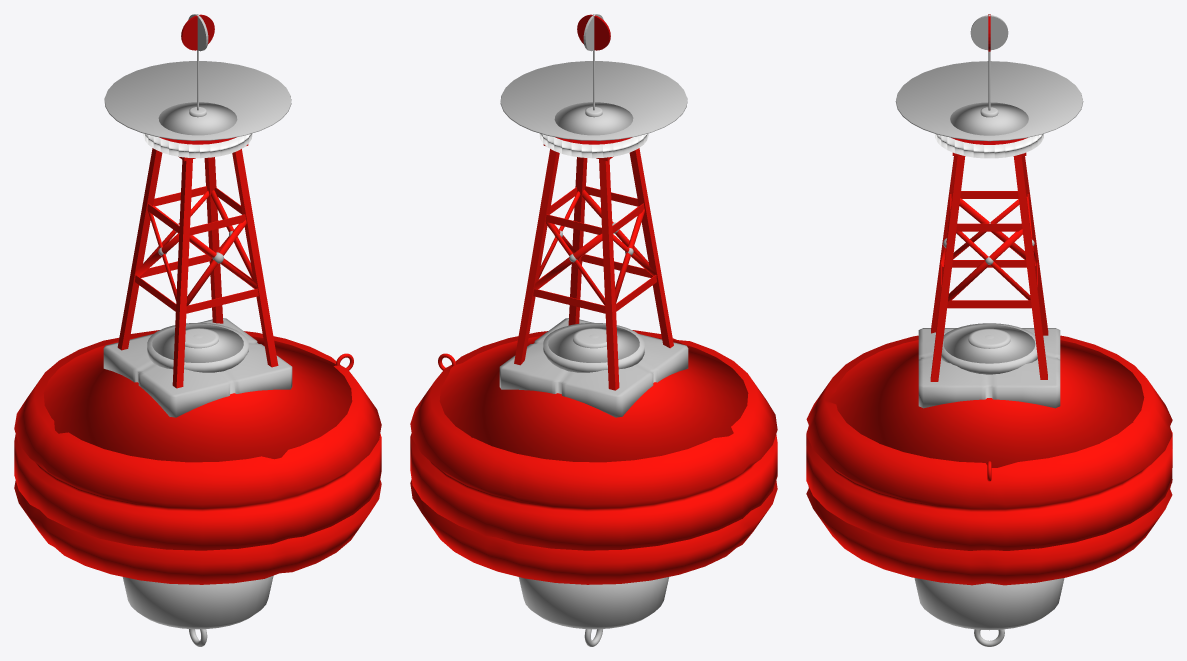
The picture shows the model from 3 angles, left to right: view 1: azimuth 30°, elevation 25°; view 2: azimuth 150°, elevation 25°; view 3: azimuth 270°, elevation 25°; orthographic projection.
Visible parts, largest first — view 1: Torus.024; view 2: Torus.024; view 3: Torus.024.
Part boxes in pixels (box(x1,y1,x2,y2)): Torus.024: box(14, 14, 381, 646); Torus.024: box(410, 14, 777, 646); Torus.024: box(806, 14, 1172, 646).
Bounding box in the file's own units: 298 × 568 × 298.
